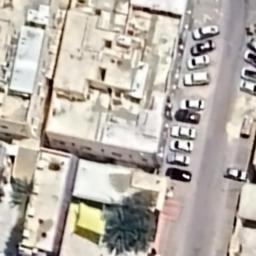SUV: (181, 68, 214, 88)
sedan: (184, 51, 214, 73), (163, 165, 193, 186), (187, 38, 219, 56), (192, 24, 222, 42), (173, 106, 203, 124), (169, 122, 198, 140), (223, 164, 248, 184), (166, 139, 196, 155), (161, 152, 193, 166), (179, 97, 207, 112), (235, 78, 256, 96), (238, 66, 256, 82), (240, 50, 256, 64), (243, 35, 256, 49), (247, 22, 256, 36)
